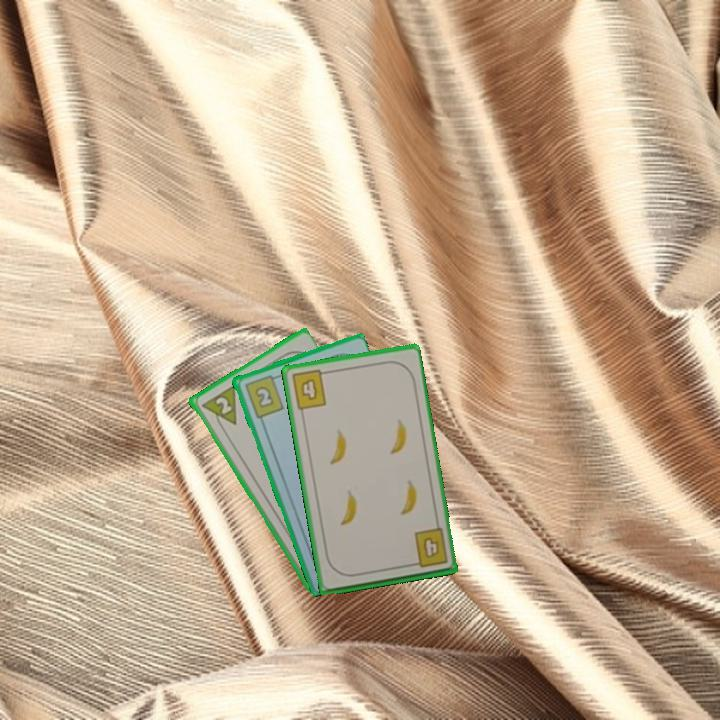2b: (241, 371, 286, 421)
2p: (197, 382, 240, 434)
4b: (406, 525, 451, 571), (287, 366, 331, 413)
